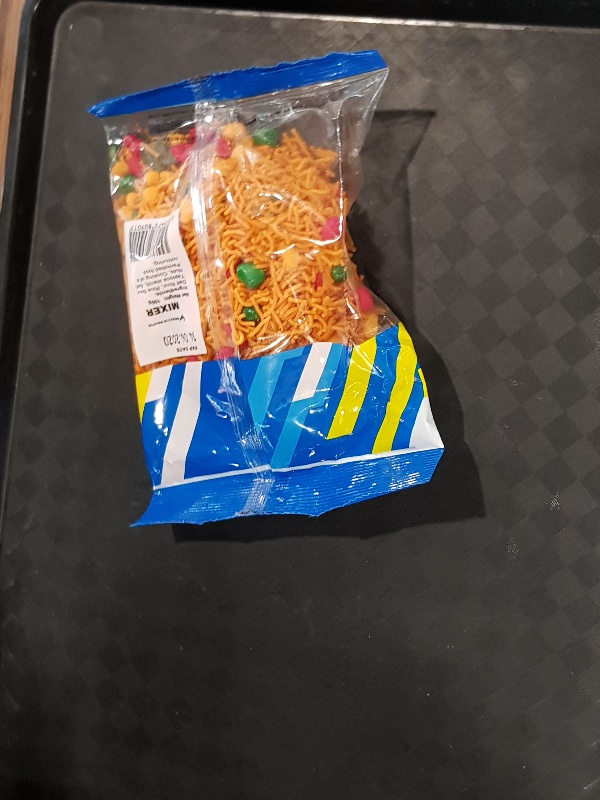Star Tidbits Mixer: (87, 49, 445, 528)
